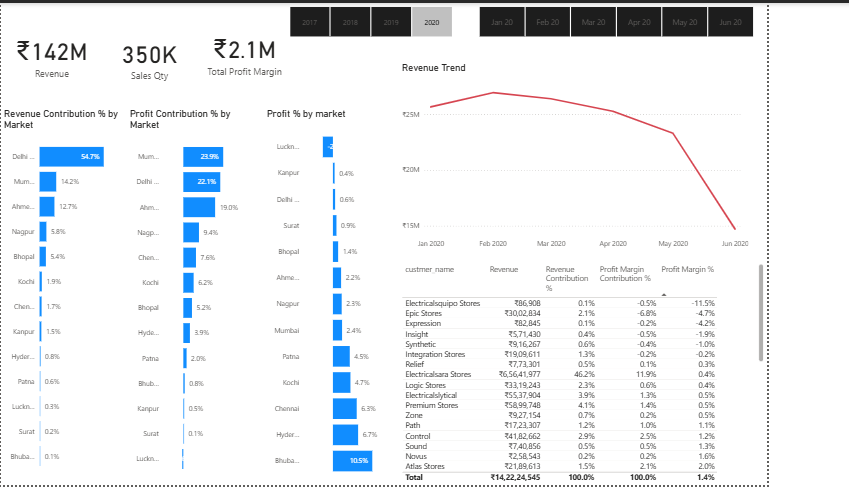

The dashboard page shown, as its layout file describes it:
{"tool":"powerbi","page":{"name":"Profit Analysis","canvas":[1350,850],"ordinal":1},"visuals":[{"type":"card","fields":{"Values":["BaseMeasures (2).Revenue"]},"box":[0,0,179.6,184.8],"z":0},{"type":"card","fields":{"Values":["BaseMeasures (2).Sales Qty"]},"box":[179.6,0,164.1,193],"z":1000},{"type":"barChart","title":"Profit % by market","fields":{"Y":["BaseMeasures (2).Profit Margin %"],"Category":["sales markets.markets_name"]},"box":[464.5,184.8,230.2,664.8],"z":2000},{"type":"barChart","title":"Profit Contribution % by Market","fields":{"Y":["BaseMeasures (2).Profit Margin Contribution %"],"Category":["sales markets.markets_name"]},"box":[221.9,185.8,208.5,659.6],"z":3000},{"type":"slicer","fields":{"Values":["sales date.year"]},"box":[483.2,0,335.5,66.5],"z":4000},{"type":"slicer","fields":{"Values":["sales date.cy_date"]},"box":[818.6,0,531.7,66.5],"z":5000},{"type":"tableEx","title":"Top 5 Customers","fields":{"Values":["sales customers.custmer_name","BaseMeasures (2).Revenue","BaseMeasures (2).Revenue Contribution %","BaseMeasures (2).Profit Margin Contribution %","BaseMeasures (2).Profit Margin %"]},"box":[701.9,454.2,648.3,395.4],"z":6000},{"type":"lineChart","title":"Revenue Trend","fields":{"Y":["BaseMeasures (2).Revenue"],"Category":["sales date.cy_date"]},"box":[701.9,104.3,621.4,338.6],"z":7000},{"type":"card","fields":{"Values":["BaseMeasures (2).Total Profit Margin"]},"box":[349.9,0,161,176.5],"z":8000},{"type":"barChart","title":"Revenue Contribution % by Market","fields":{"Y":["BaseMeasures (2).Revenue Contribution %"],"Category":["sales markets.markets_name"]},"box":[0,185.8,219.9,654.5],"z":9000}]}

Visuals, with their boxes on the page's 1350x850 design canvas (x1, y1, x2, y2). These are canvas units, not pixel positions in the 849x491 screenshot, which may show the page scaled, cropped or inside an application window:
card - BaseMeasures (2).Revenue: {"left": 0, "top": 0, "right": 180, "bottom": 185}
card - BaseMeasures (2).Sales Qty: {"left": 180, "top": 0, "right": 344, "bottom": 193}
"Profit % by market" barChart: {"left": 464, "top": 185, "right": 695, "bottom": 850}
"Profit Contribution % by Market" barChart: {"left": 222, "top": 186, "right": 430, "bottom": 845}
slicer - sales date.year: {"left": 483, "top": 0, "right": 819, "bottom": 66}
slicer - sales date.cy_date: {"left": 819, "top": 0, "right": 1350, "bottom": 66}
"Top 5 Customers" tableEx: {"left": 702, "top": 454, "right": 1350, "bottom": 850}
"Revenue Trend" lineChart: {"left": 702, "top": 104, "right": 1323, "bottom": 443}
card - BaseMeasures (2).Total Profit Margin: {"left": 350, "top": 0, "right": 511, "bottom": 176}
"Revenue Contribution % by Market" barChart: {"left": 0, "top": 186, "right": 220, "bottom": 840}
